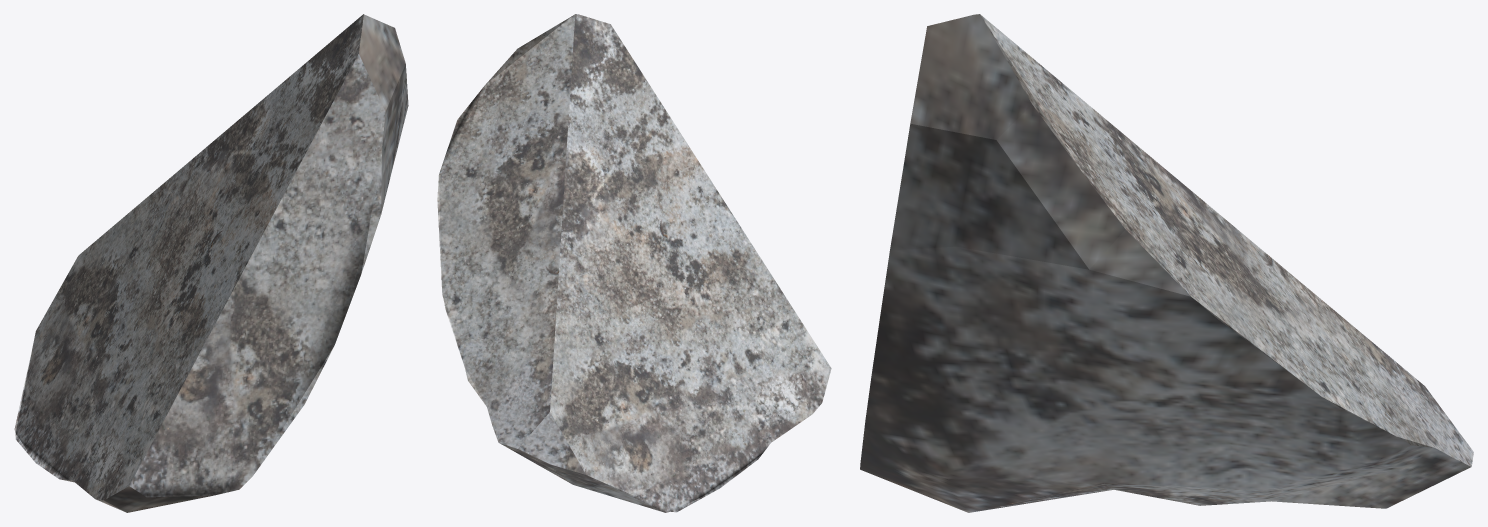
The model's file is Asteroid_Medium_001_02_001.fbx.
The picture shows the model from 3 angles, left to right: view 1: azimuth 30°, elevation 25°; view 2: azimuth 150°, elevation 25°; view 3: azimuth 270°, elevation 25°; orthographic projection. The views are drawn at different scales.
Parts seen in each view (by area): view 1: Asteroid_Medium_001_02_001; view 2: Asteroid_Medium_001_02_001; view 3: Asteroid_Medium_001_02_001.
Boxes of the visible parts, left/top/right/bottom form: Asteroid_Medium_001_02_001: left=14, top=14, right=408, bottom=512; Asteroid_Medium_001_02_001: left=437, top=14, right=831, bottom=512; Asteroid_Medium_001_02_001: left=860, top=14, right=1473, bottom=512.
Bounding box in the file's own units: 14.6 × 17.34 × 15.06.
